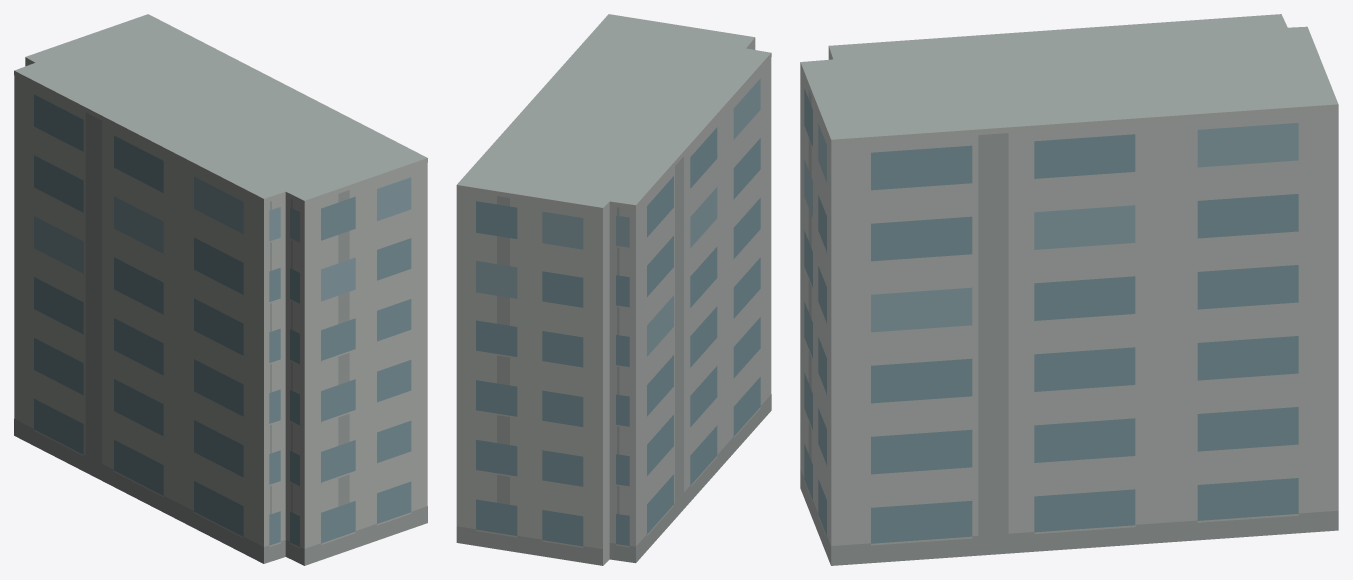
File: survey-upis-32703428.glb
3 renders of one model, left to right at view 1: azimuth 30°, elevation 25°; view 2: azimuth 150°, elevation 25°; view 3: azimuth 270°, elevation 25°, orthographic. The views are drawn at different scales.
Visible parts, largest first — view 1: survey-upis-32703428.tmp; view 2: survey-upis-32703428.tmp; view 3: survey-upis-32703428.tmp.
Part boxes in pixels (<box>): survey-upis-32703428.tmp: <box>14,14,427,565</box>; survey-upis-32703428.tmp: <box>456,14,771,565</box>; survey-upis-32703428.tmp: <box>800,14,1338,565</box>.
Size of the model in its own units: 11.65 by 18.4 by 21.07.
